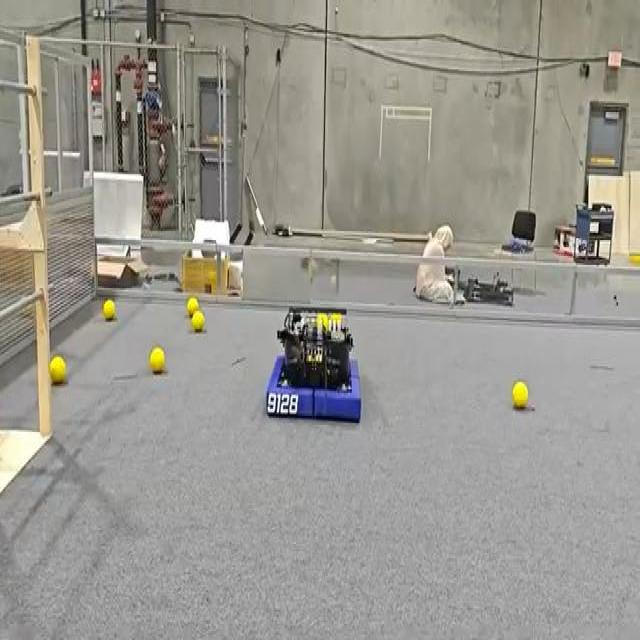Fuel: (149, 347, 165, 372), (512, 381, 527, 407), (50, 356, 65, 382), (149, 347, 164, 373), (102, 299, 115, 320), (191, 311, 204, 331), (186, 297, 198, 315)
